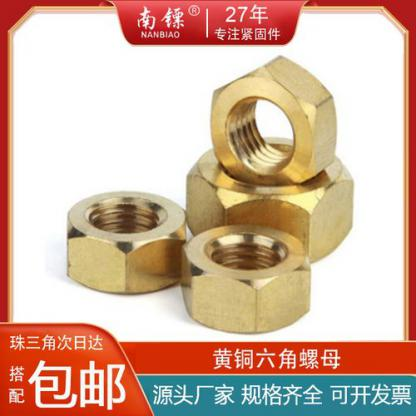FOD: (184, 142, 356, 261), (203, 57, 340, 182), (177, 228, 316, 334), (63, 192, 188, 296)
